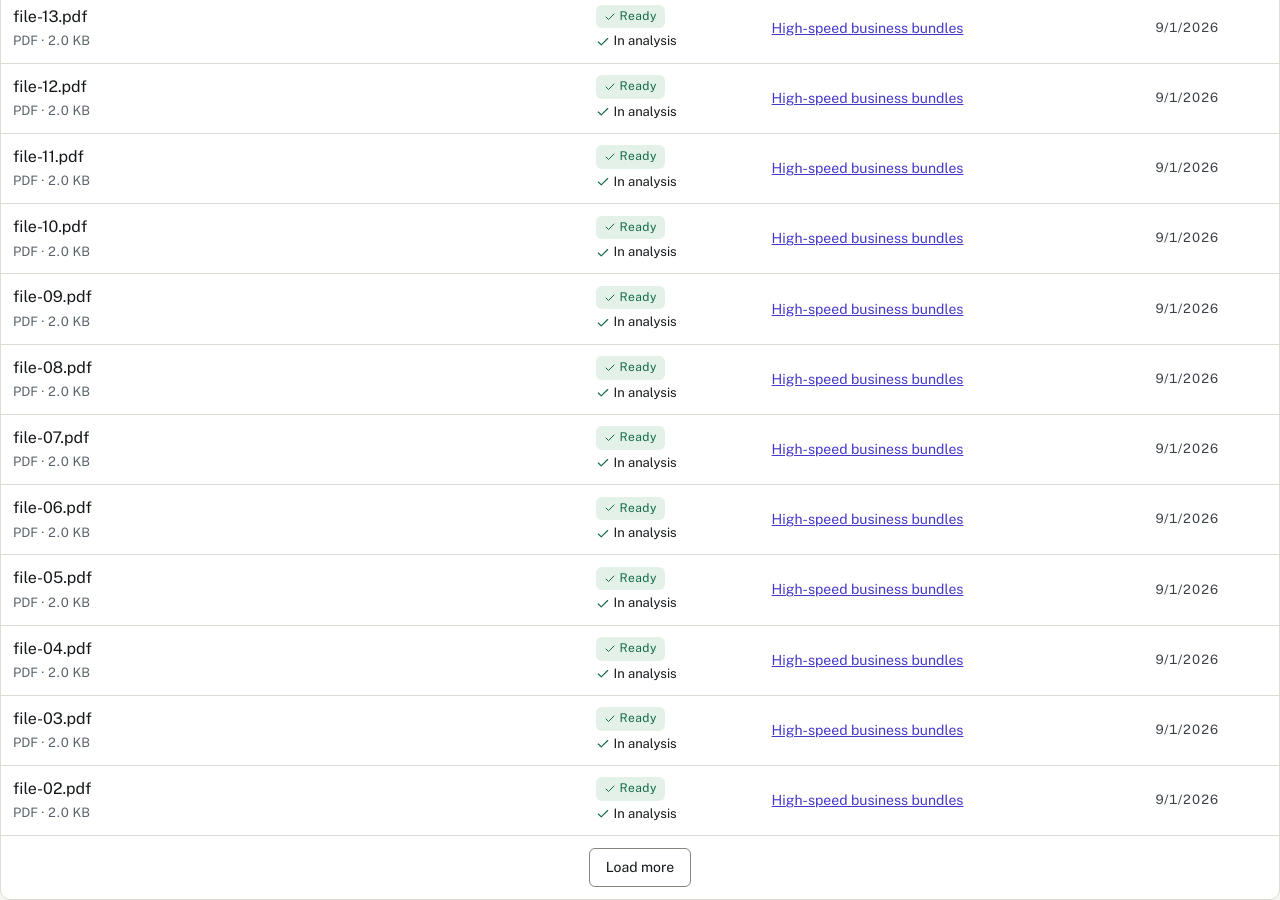
loads the next page of files on request
The image size is (1280, 900).
(page scrolled)
Click the button "Load more" at coordinates (640, 868), box x1=589 y1=848 x2=691 y2=887
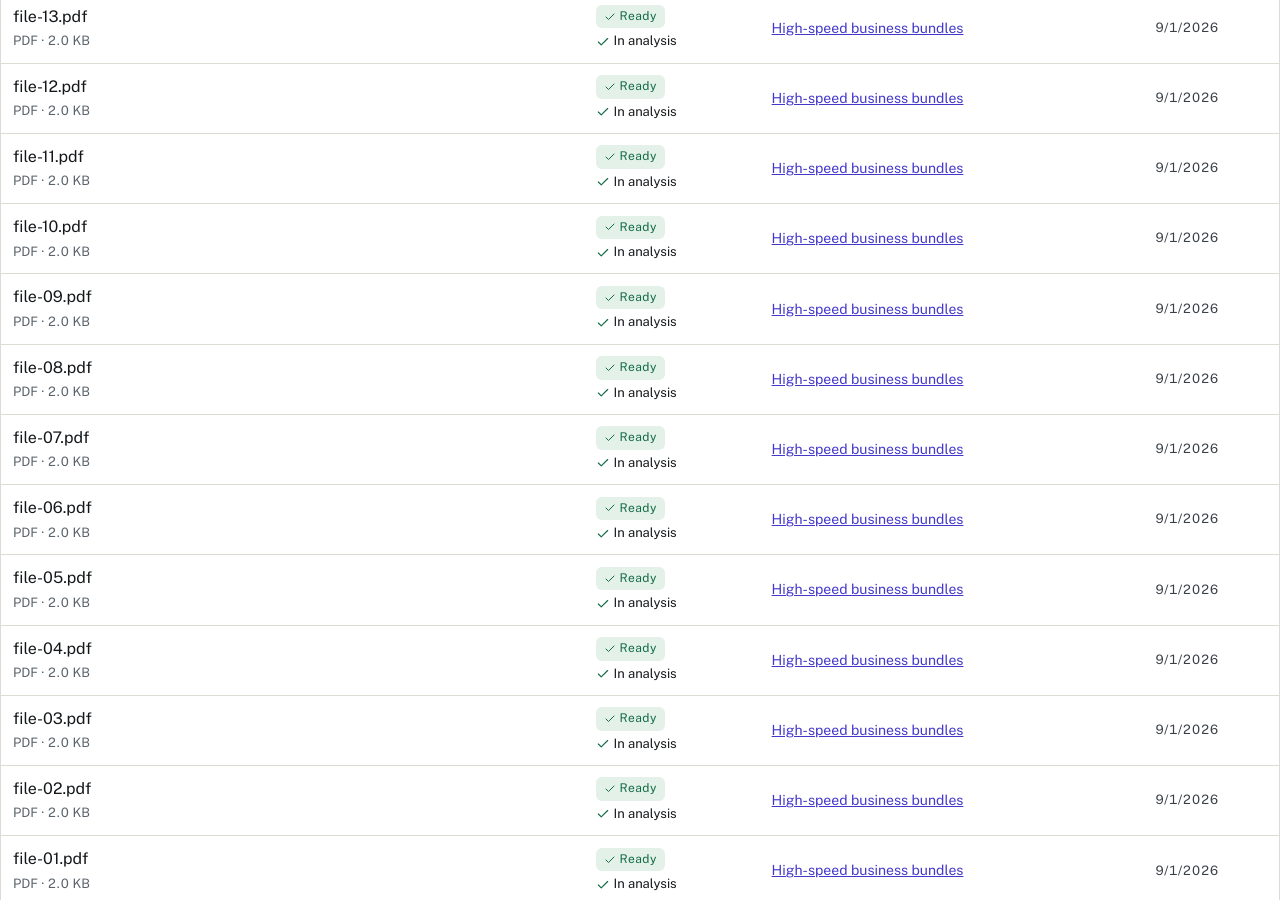
expect the button "Load more" is gone: met
